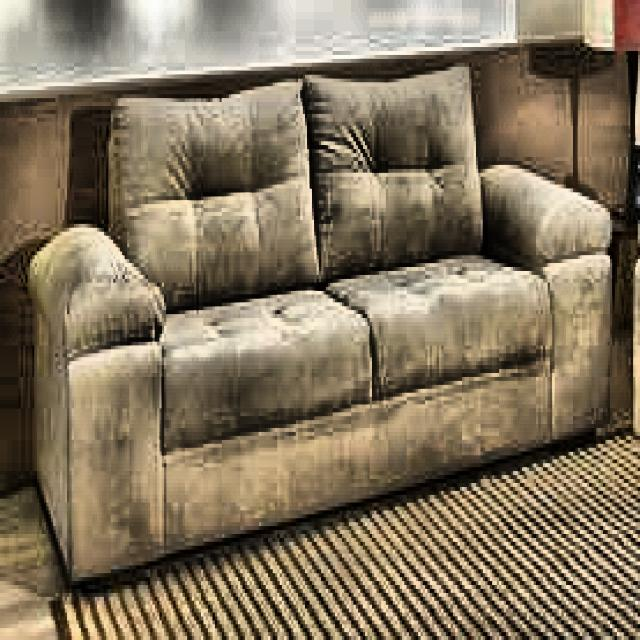sofa: (28, 67, 612, 585)
